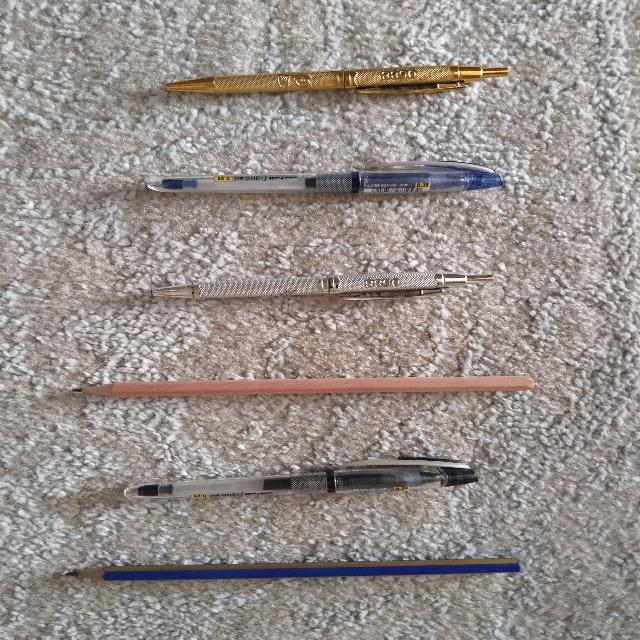pen: (124, 458, 477, 498), (146, 162, 502, 193)
pencil: (66, 558, 519, 580), (74, 376, 533, 396)
signature pen: (166, 65, 507, 93), (151, 272, 492, 299)
